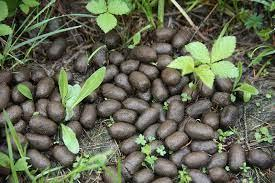Elk: (110, 62, 224, 181), (3, 68, 76, 148)
